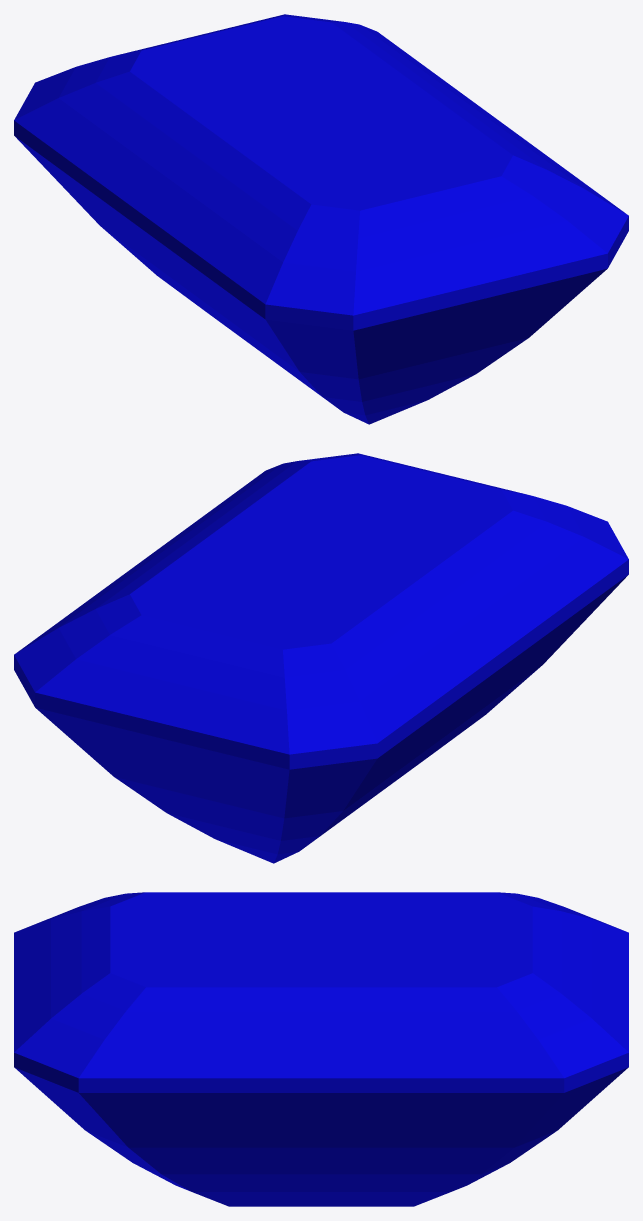
The model's file is Head_Hidden Halo_Emerald_0.50ct_Diamond.glb.
The picture shows the model from 3 angles, top to bottom: view 1: azimuth 30°, elevation 25°; view 2: azimuth 150°, elevation 25°; view 3: azimuth 270°, elevation 25°; orthographic projection. The views are drawn at different scales.
Bounding box in the file's own units: 0.00378 × 0.00274 × 0.00573.
